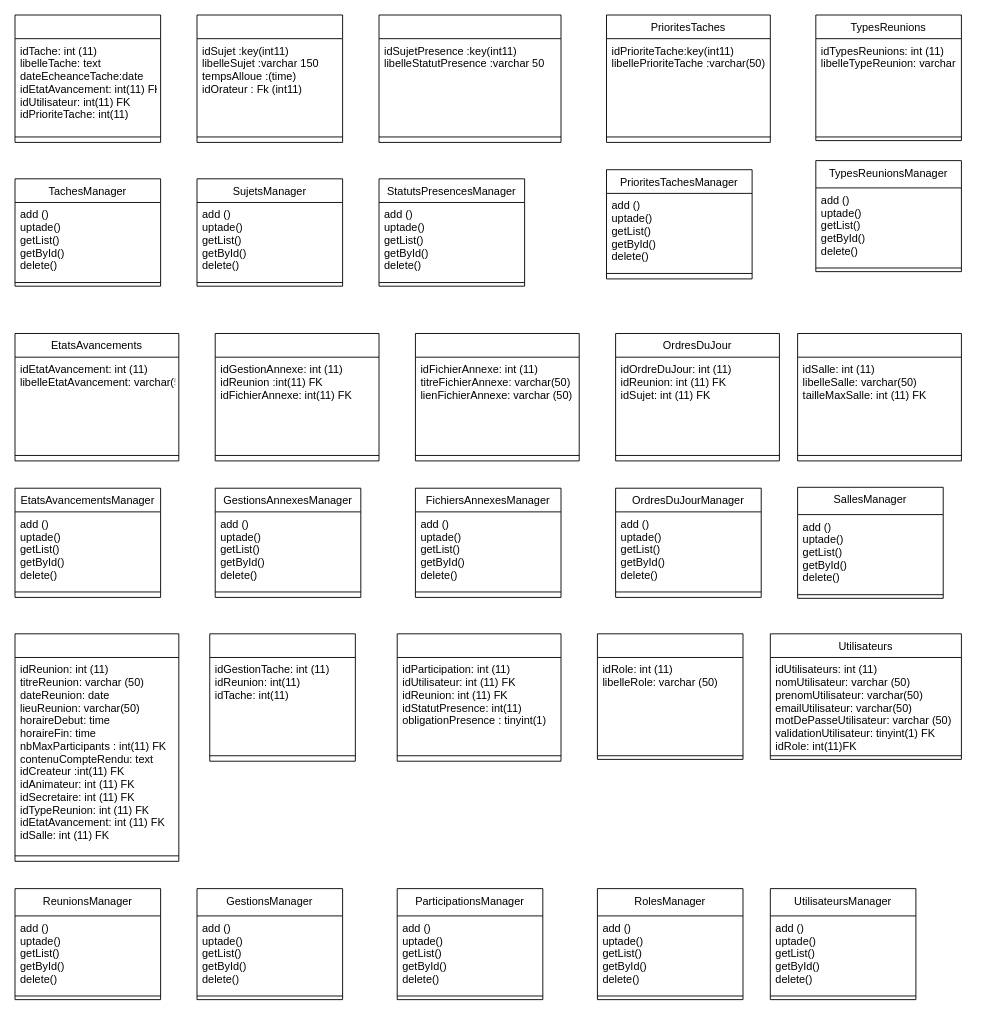
This 993x1015 diagram has some shape labels left out. The shapes that lost their labels are listed below. From the top down, each one's box as (x1, y1, x2, y2) in pixels, then its label:
(14, 14, 161, 142): Taches
(196, 14, 343, 142): Sujets
(378, 14, 561, 142): StatutsPresences
(214, 333, 379, 461): GestionsAnnexes
(415, 333, 579, 461): FichiersAnnexes
(797, 333, 961, 461): Salles
(209, 633, 355, 761): GestionsTaches
(396, 633, 561, 761): Participations
(597, 633, 743, 759): Roles
(14, 633, 179, 861): Reunions
